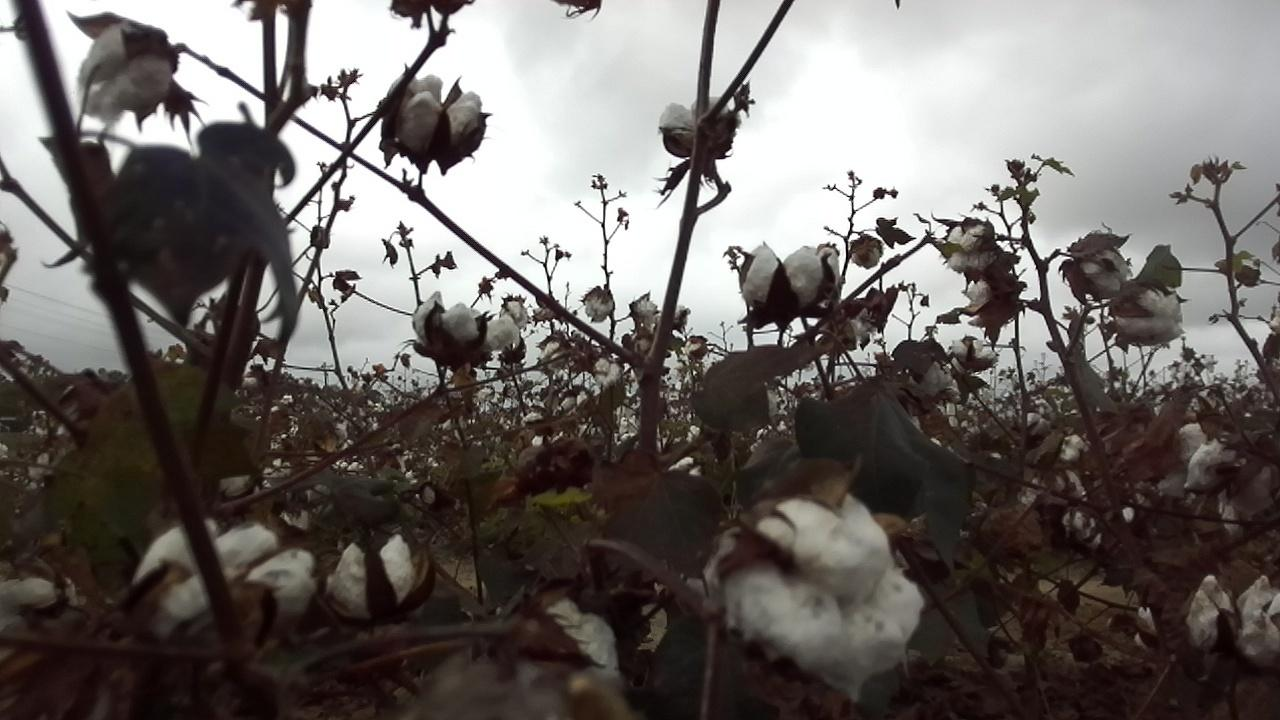cotton_ready: (726, 495, 925, 704), (134, 517, 317, 647), (1177, 424, 1280, 535), (517, 604, 625, 700), (77, 25, 172, 119), (324, 535, 414, 617), (0, 575, 79, 664), (738, 239, 832, 313), (412, 290, 519, 351), (651, 547, 728, 628), (1019, 415, 1086, 502), (397, 77, 485, 141), (1108, 287, 1184, 345), (669, 95, 737, 155), (1235, 574, 1280, 662), (1185, 575, 1232, 655), (1080, 250, 1132, 298), (946, 222, 992, 273), (968, 275, 993, 314)
